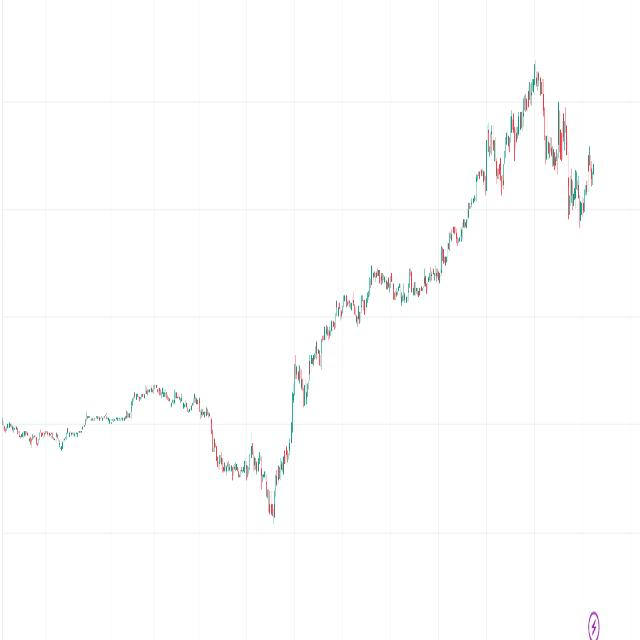Rising-Wedge: (243, 254, 379, 556)
